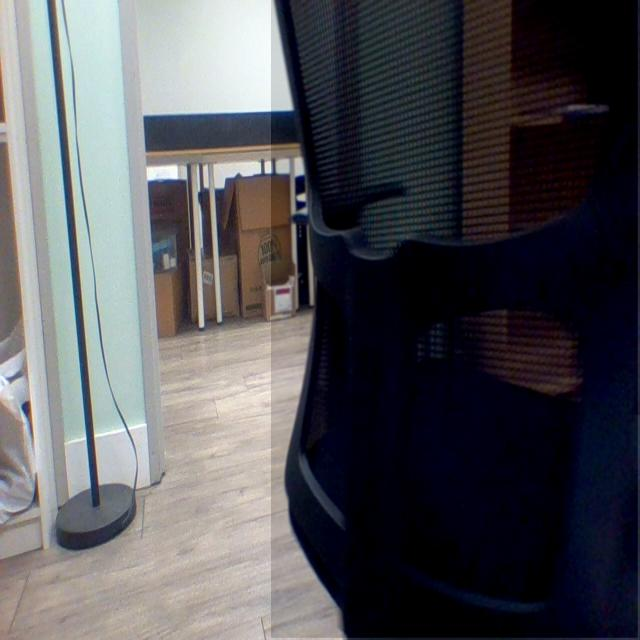black-chair: (271, 0, 639, 639)
